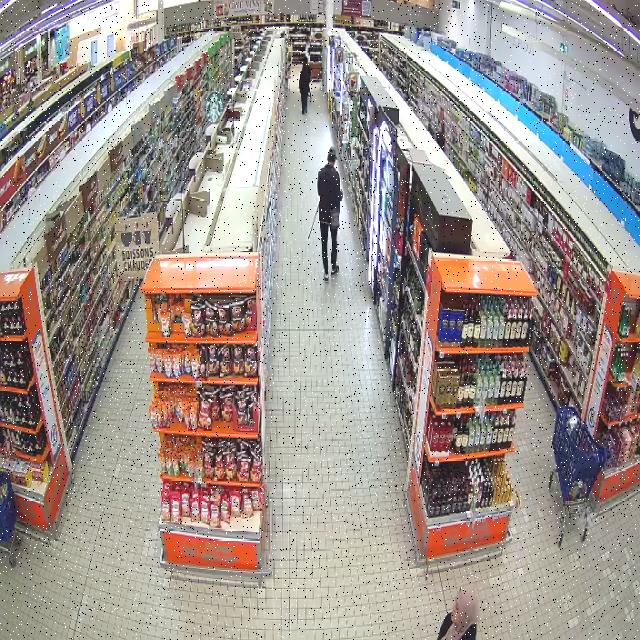bags: (329, 207, 340, 229)
person: (318, 147, 342, 281), (437, 587, 478, 639)
